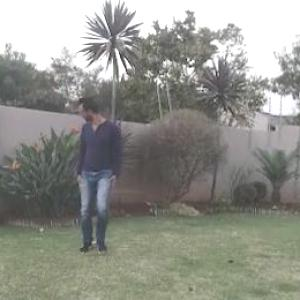follow: (69, 87, 126, 263)
